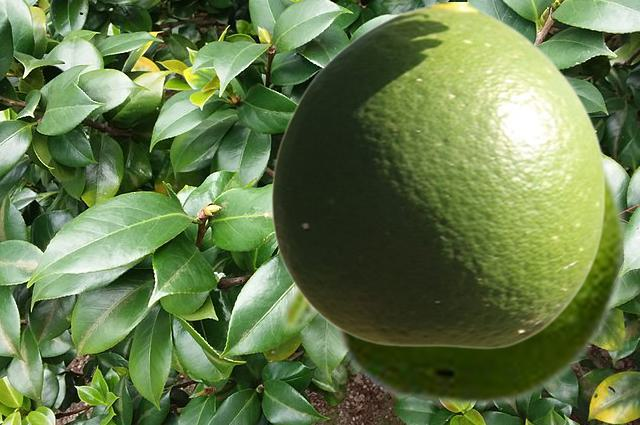dalandan: (276, 67, 630, 410), (270, 2, 605, 348)
